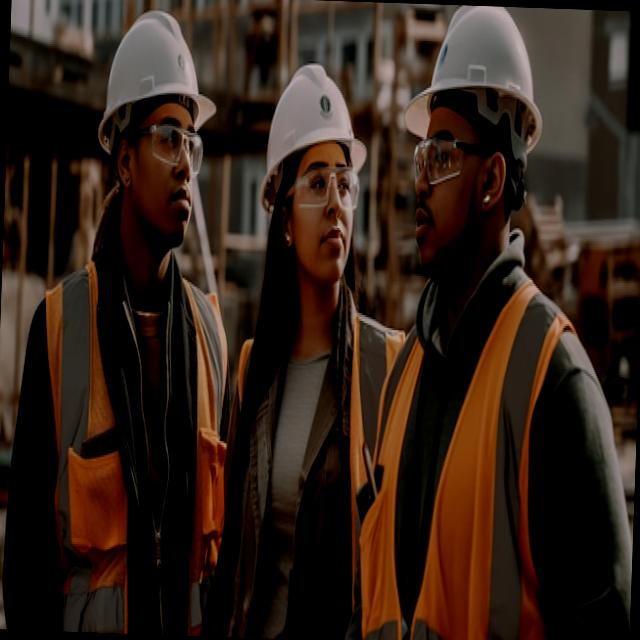goggles: (106, 110, 218, 194), (397, 111, 489, 213), (262, 149, 368, 234)
helmet: (85, 0, 230, 177), (396, 3, 556, 162), (246, 53, 378, 211)
vest: (379, 292, 574, 640), (48, 259, 224, 636), (219, 309, 376, 640)
